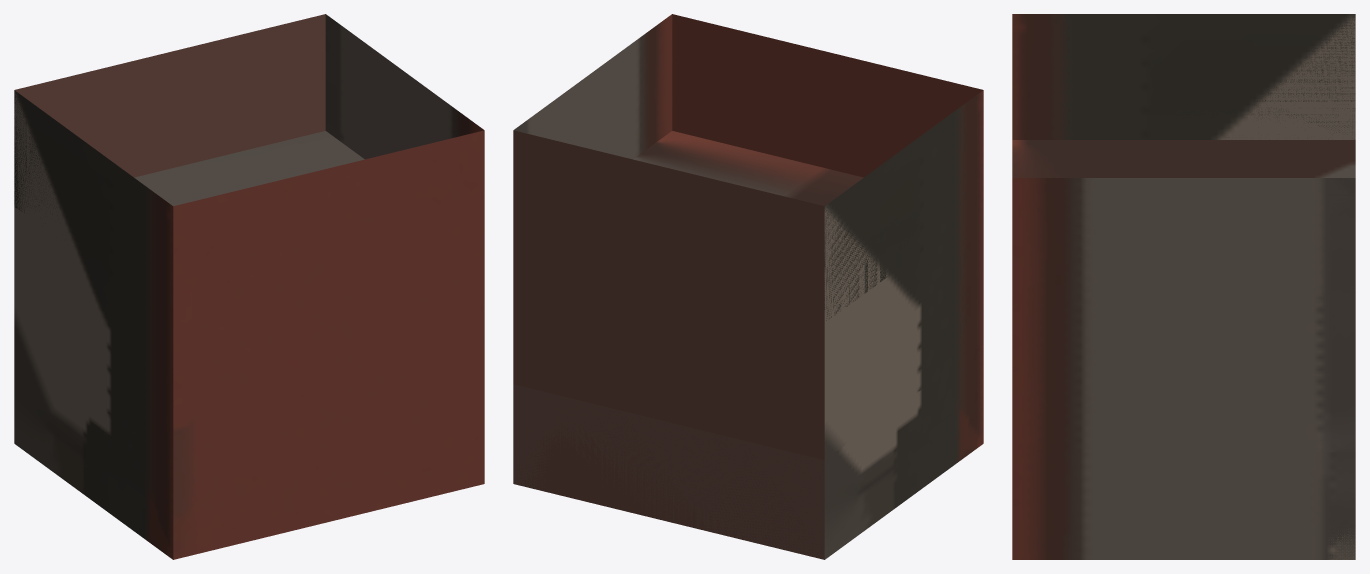
File: section-18.obj
3 views of the same model, side by side, from view 1: azimuth 30°, elevation 25°; view 2: azimuth 150°, elevation 25°; view 3: azimuth 270°, elevation 25° (orthographic). The views are drawn at different scales.
Bounding box in the file's own units: 0.9215 × 1 × 0.8142.
